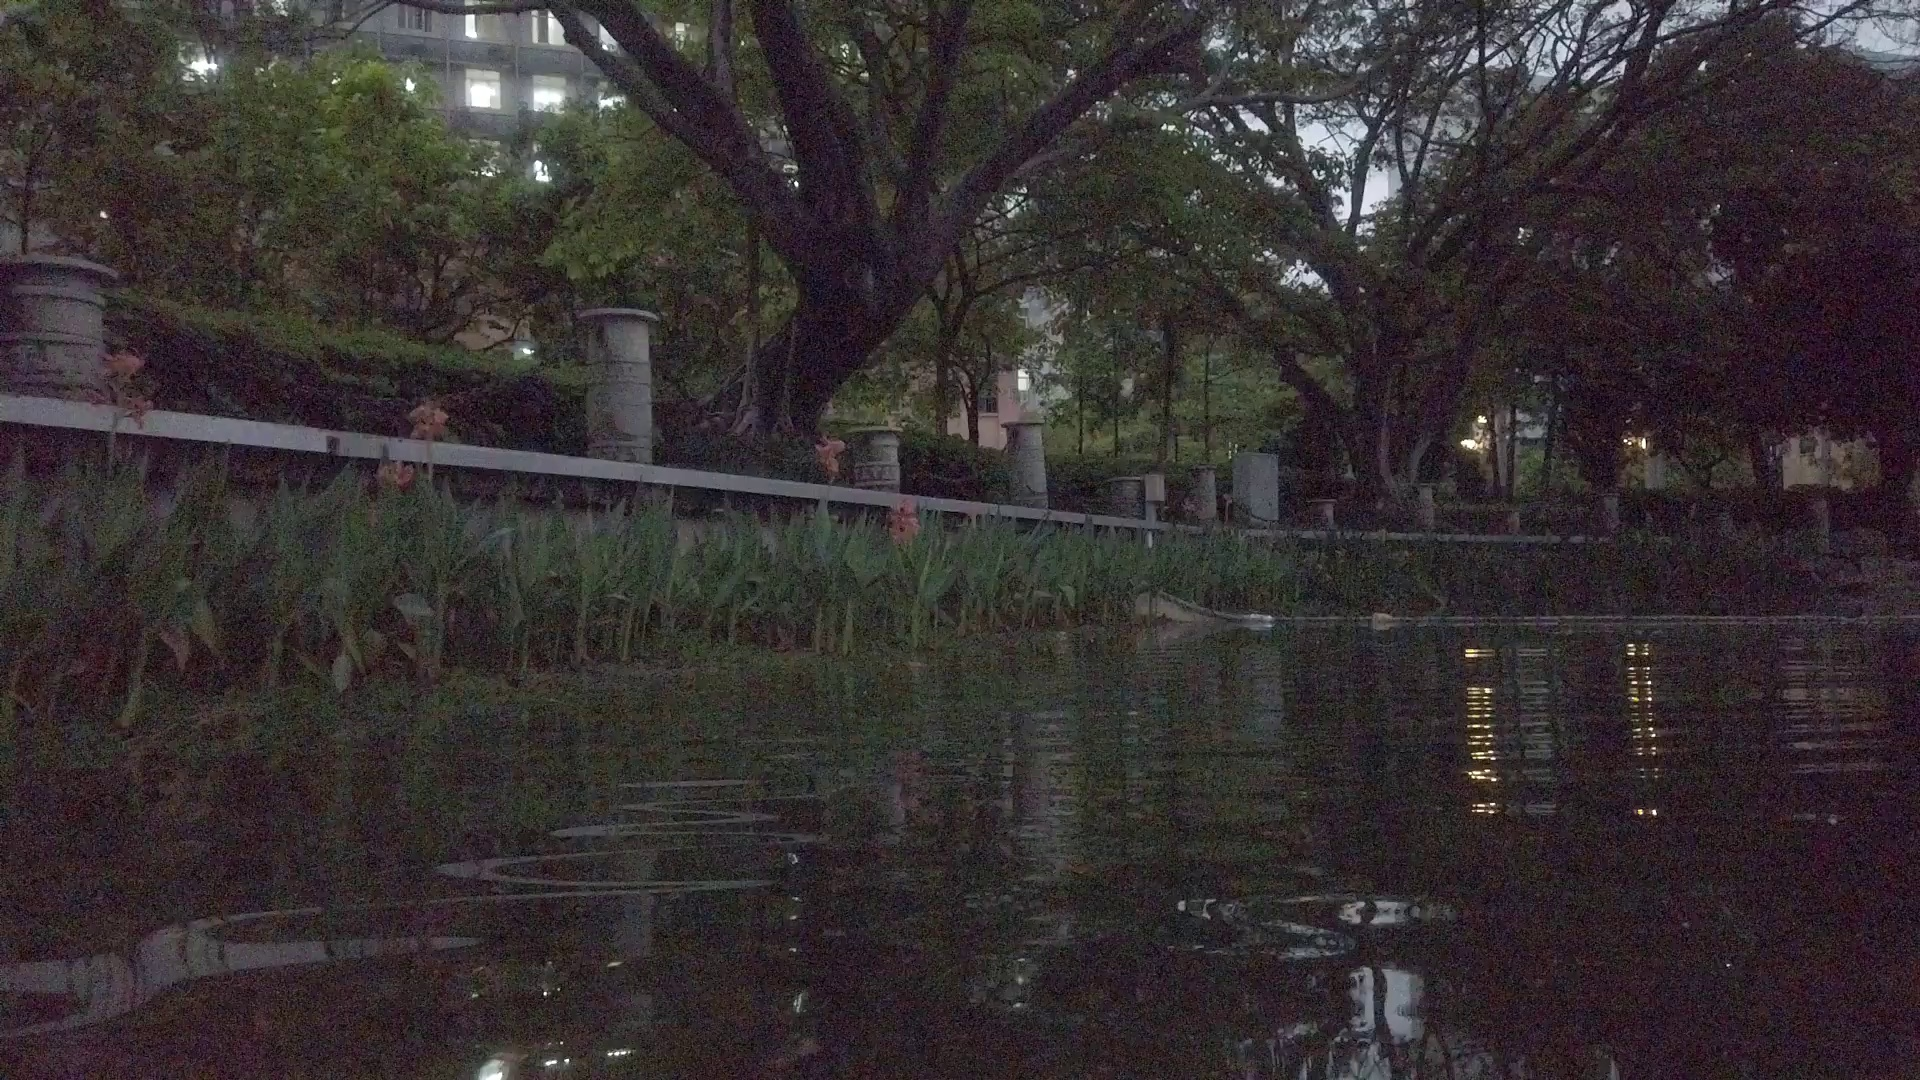bottle: (1250, 611, 1273, 625), (1371, 611, 1395, 622)
